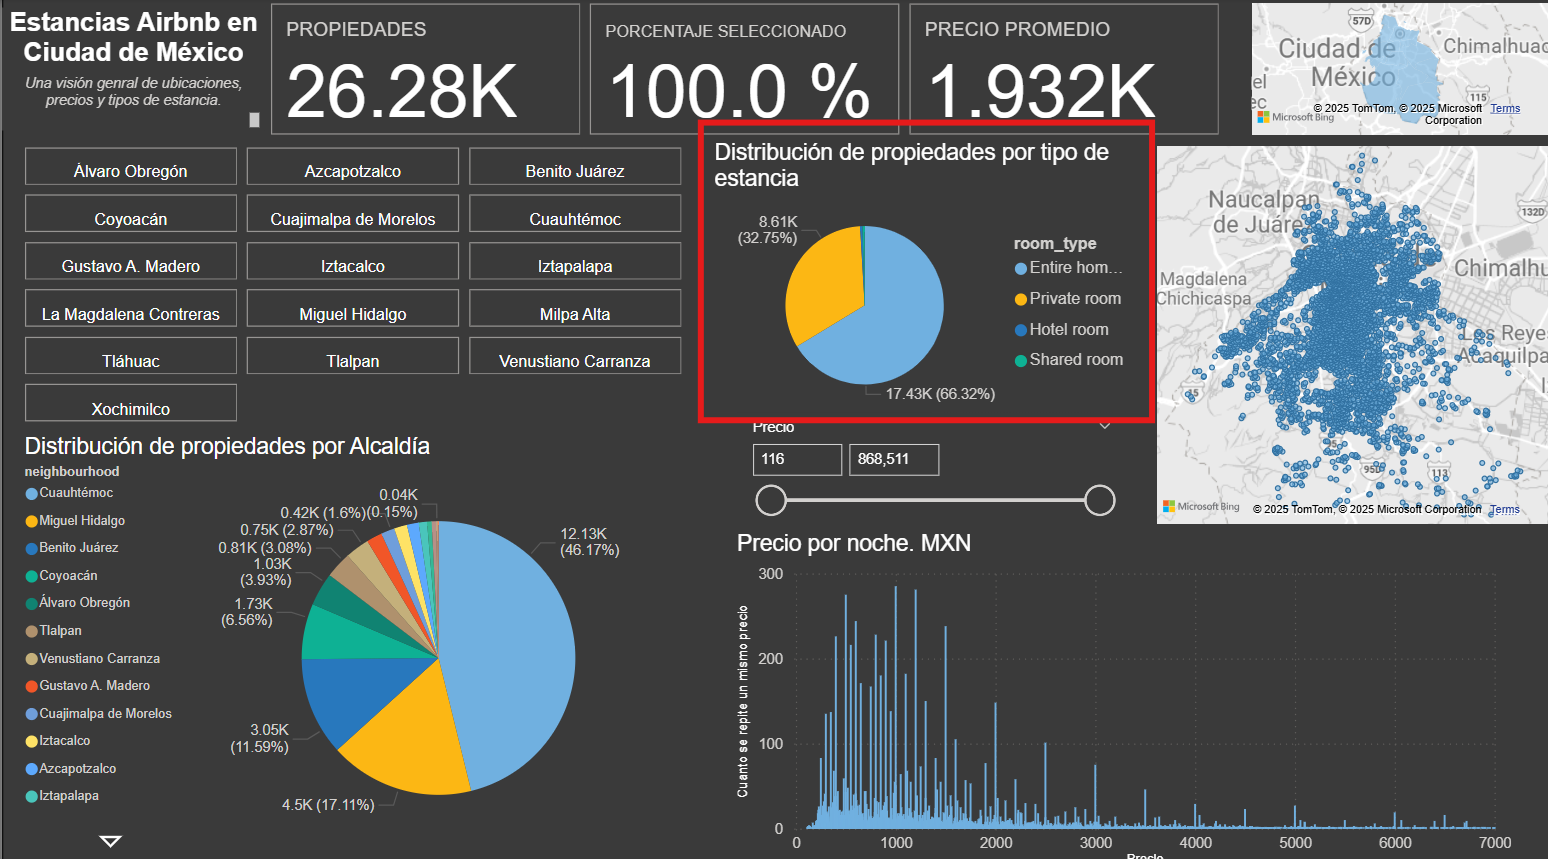

What the dashboard file says about the page in this screenshot:
{"tool":"powerbi","page":{"name":"Dashboard","canvas":[1280,720],"ordinal":0},"visuals":[{"type":"advancedSlicerVisual","fields":{"Values":["Sheet1.neighbourhood"]},"box":[13.7,118,553,241.5],"z":0},{"type":"map","fields":{"Y":["Sheet1.latitude"],"X":["Sheet1.longitude"]},"box":[946.2,117.6,333.9,321.7],"z":1000},{"type":"filledMap","fields":{"Category":["Sheet1.Mapa_Alcaldia"]},"box":[1024.4,0,256.4,118.6],"z":2000},{"type":"pieChart","title":"Distribución de propiedades por Alcaldía","fields":{"Category":["Sheet1.neighbourhood"],"Y":["CountNonNull(Sheet1.neighbourhood)"]},"box":[13.7,359.5,553,348.6],"z":3000},{"type":"cardVisual","title":"propiedades","fields":{"Data":["Sheet1.TOTAL PROPIEDADES","Sheet1.PercentageSelected","Sheet1.PROMEDIO PRECIOS"]},"box":[216.7,0,791.7,118.3],"z":4000},{"type":"pieChart","title":"Distribución de propiedades por tipo de estancia","fields":{"Category":["Sheet1.room_type"],"Y":["CountNonNull(Sheet1.room_type)"]},"box":[582.6,117.6,363.6,231.1],"z":5000},{"type":"textbox","title":"Estancias Airbnb en Ciudad de México","box":[0,8.2,216.8,101.6],"z":6000},{"type":"columnChart","title":"Precio por noche. MXN","fields":{"Category":["Sheet1.price"],"Y":["CountNonNull(Sheet1.price)"]},"box":[600.2,439.3,647.5,281.2],"z":7000},{"type":"slicer","fields":{"Values":["Sheet1.price"]},"box":[605.6,342,320.4,97.3],"z":8000}]}

Visuals, with their boxes in screenshot pixels (x1, y1, x2, y2), scaled from the page's 1280x720 canvas onto the 1548x859 screenshot:
advancedSlicerVisual - Sheet1.neighbourhood: 17, 141, 685, 429
map - Sheet1.latitude x Sheet1.longitude: 1144, 140, 1547, 524
filledMap - Sheet1.Mapa_Alcaldia: 1239, 0, 1547, 141
"Distribución de propiedades por Alcaldía" pieChart: 17, 429, 685, 845
"propiedades" cardVisual: 262, 0, 1220, 141
"Distribución de propiedades por tipo de estancia" pieChart: 705, 140, 1144, 416
"Estancias Airbnb en Ciudad de México" textbox: 0, 10, 262, 131
"Precio por noche. MXN" columnChart: 726, 524, 1509, 858
slicer - Sheet1.price: 732, 408, 1120, 524
